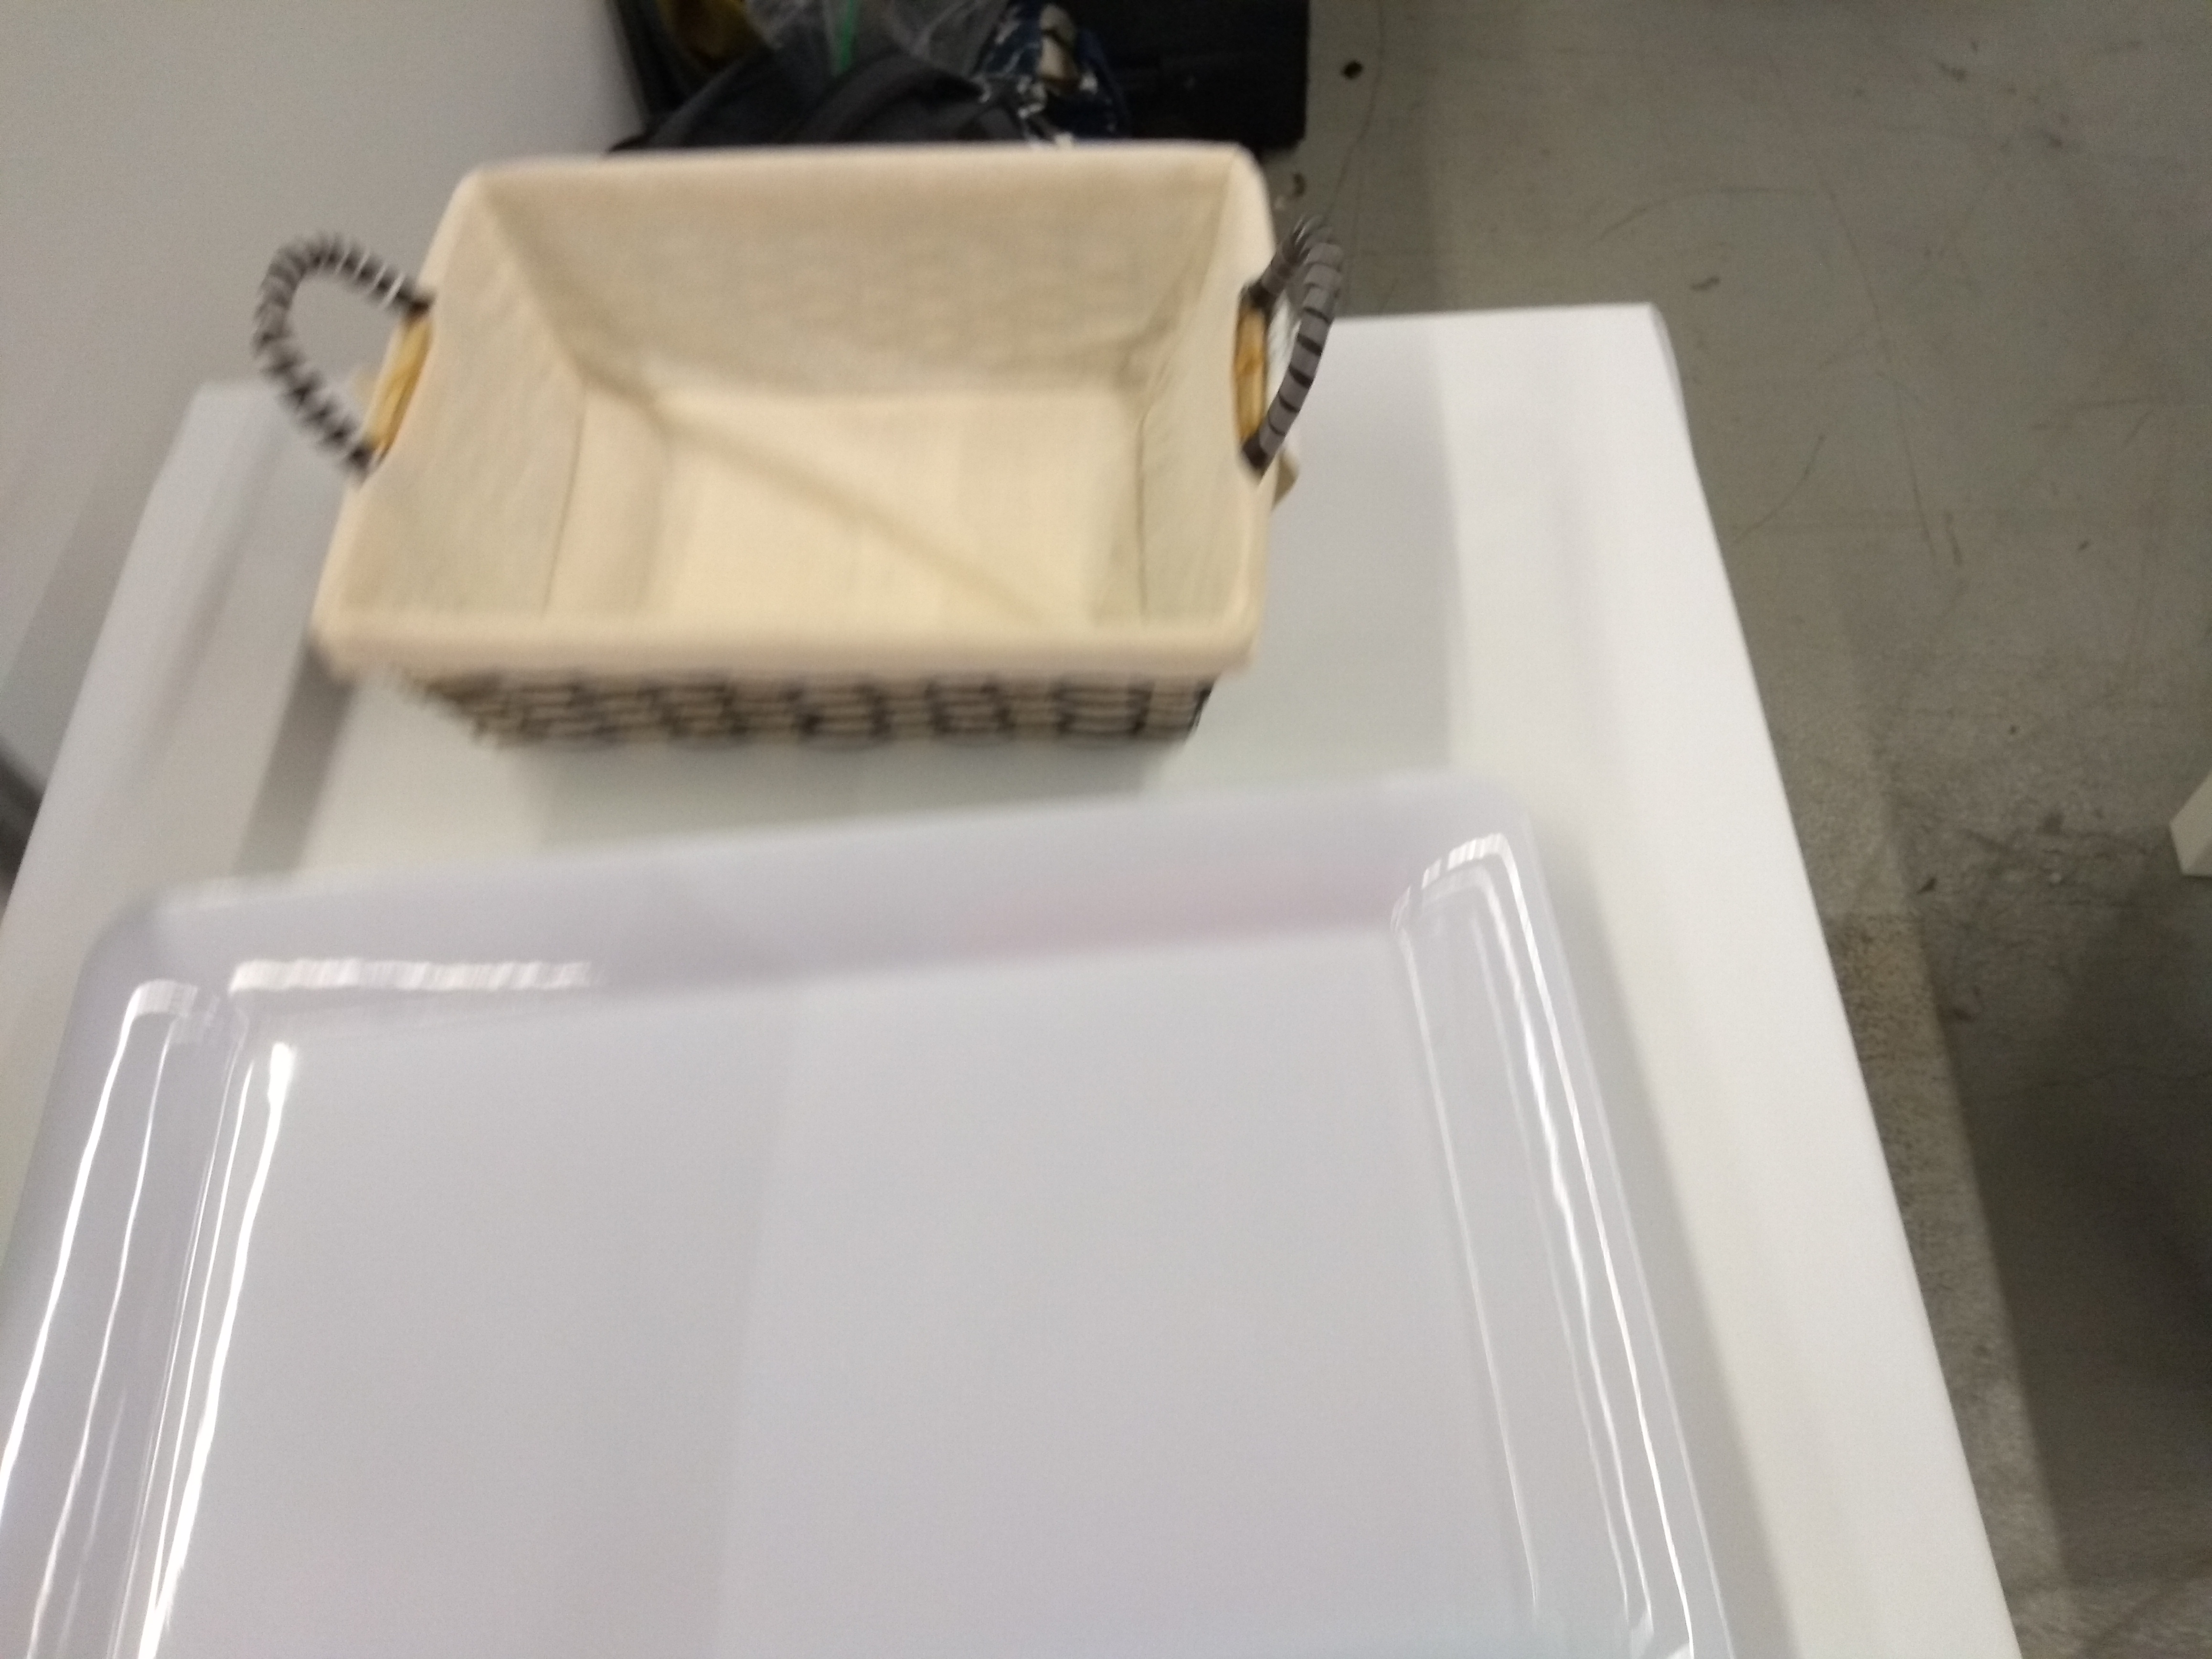basket: (261, 122, 1346, 760)
tray: (17, 753, 1740, 1659)
